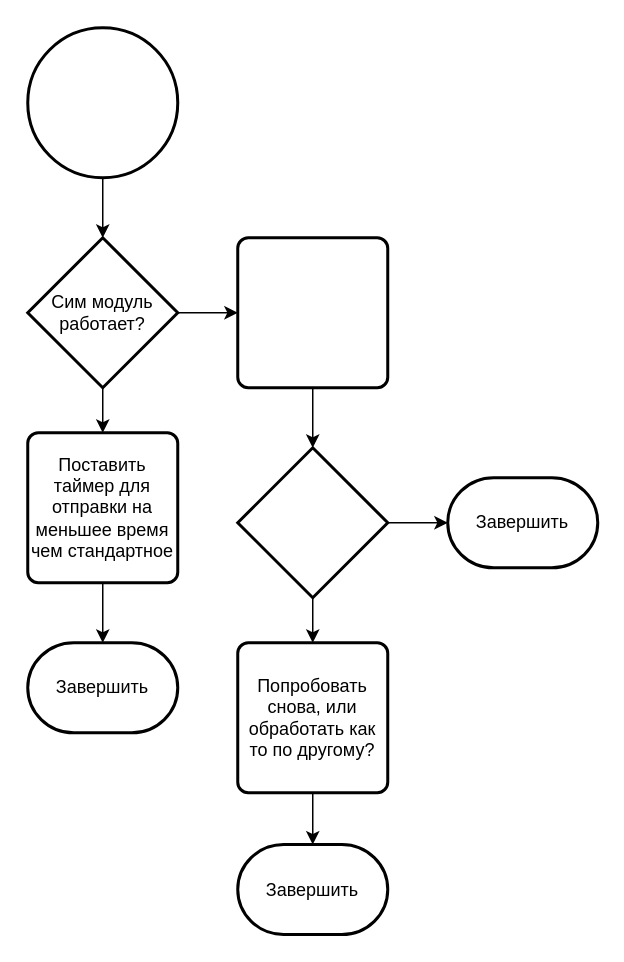
The diagram is 624 pixels wide and 962 high, and some of its shapes have lost their labels. The shapes that lost their labels are listed below. From the top down, each one's centre as x and y in pixels, then its label:
the point at 102,102: Передача параметров (датчиков)
the point at 312,312: Начать отправку данных
the point at 312,522: Данные отправились?
